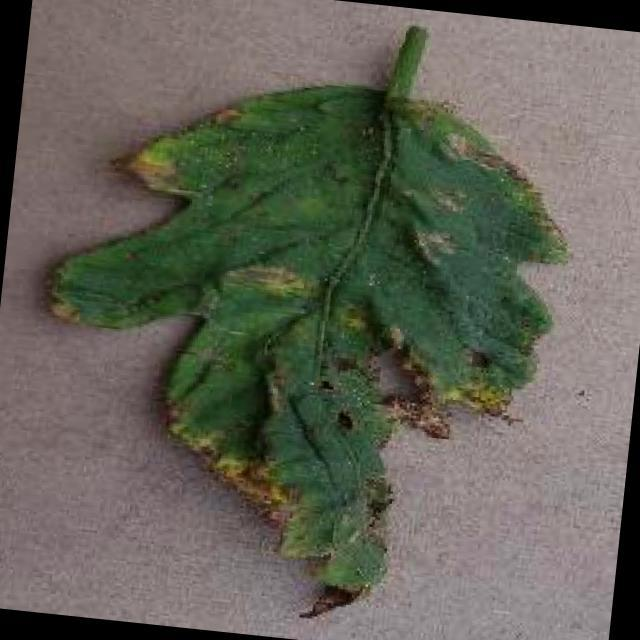Tomato bacterial spot leaf: (0, 51, 592, 640)
